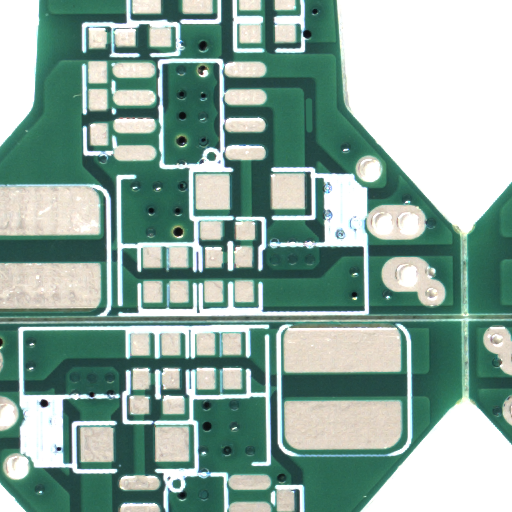Spurious_copper: (309, 116, 320, 156)
